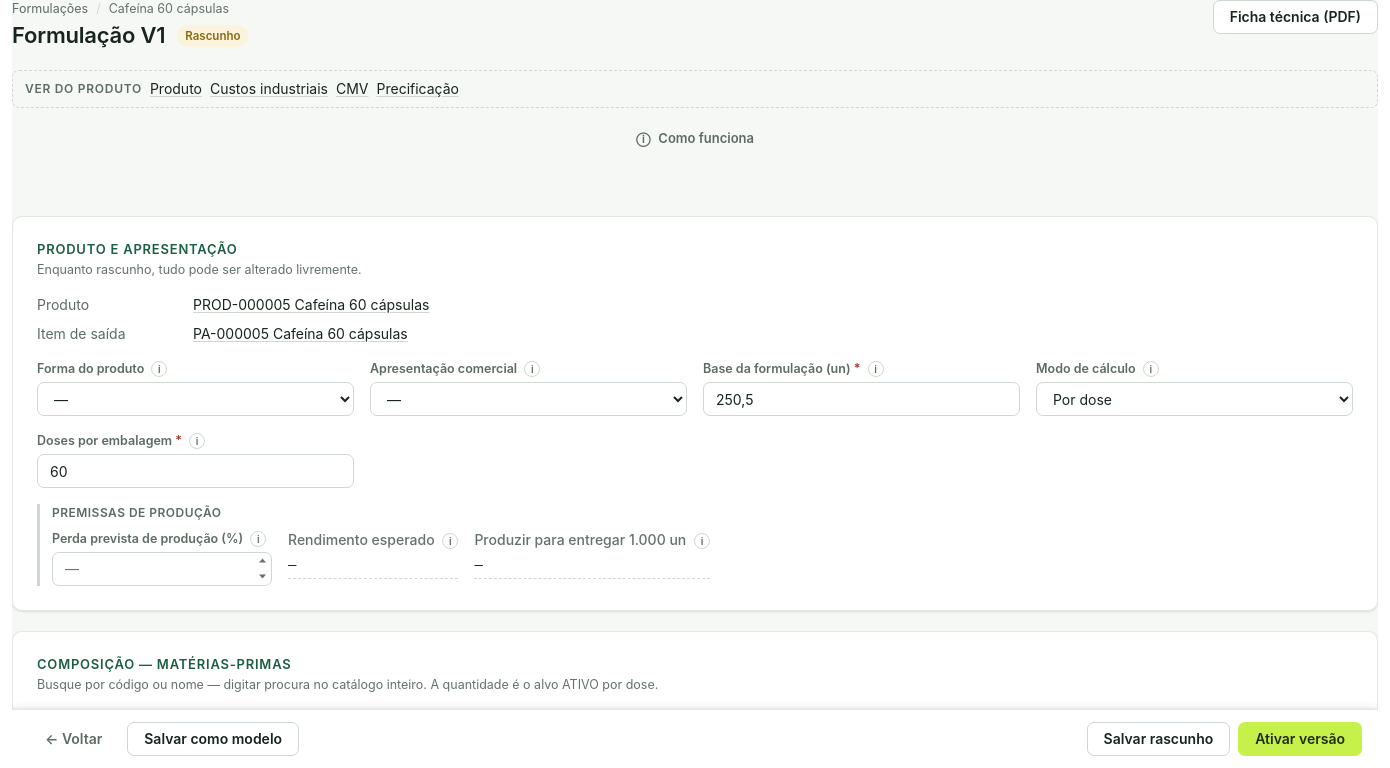
Test: Formulação — alta precisão: base e quantidade com doze casas › letra não entra na base; zero continua zero; vazio não vira zero e não sai
Expected: the link "PROD-000005 Cafeína 60 cápsulas" is shown, [193,296,429,313]
Replace the text in the field labelled "Base da formulação (un) * i" with "a0" at (862, 399), box [703,382,1020,416]
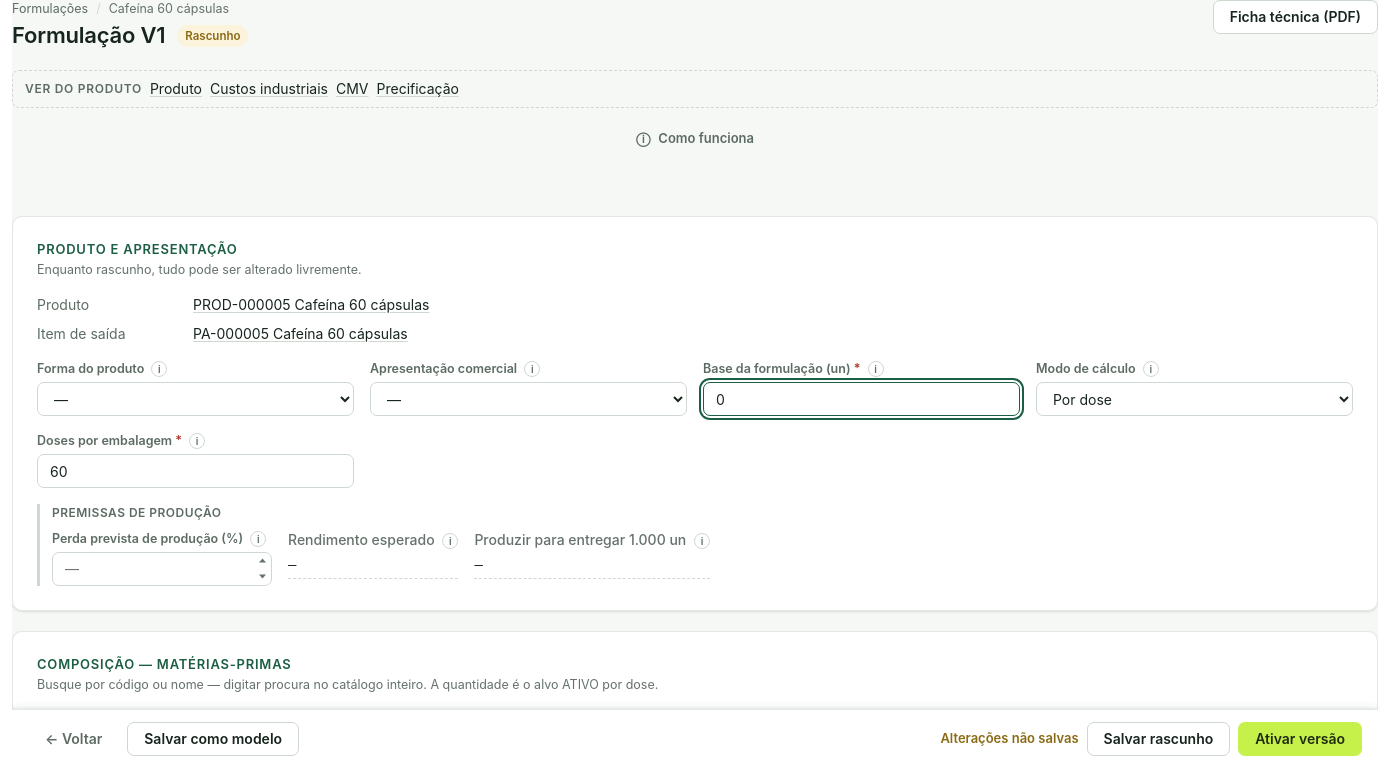
Now the field labelled "Base da formulação (un) * i" holds "0", box [703,382,1020,416]
Click the button "Salvar rascunho" at (1158, 739), box [1087,722,1230,756]
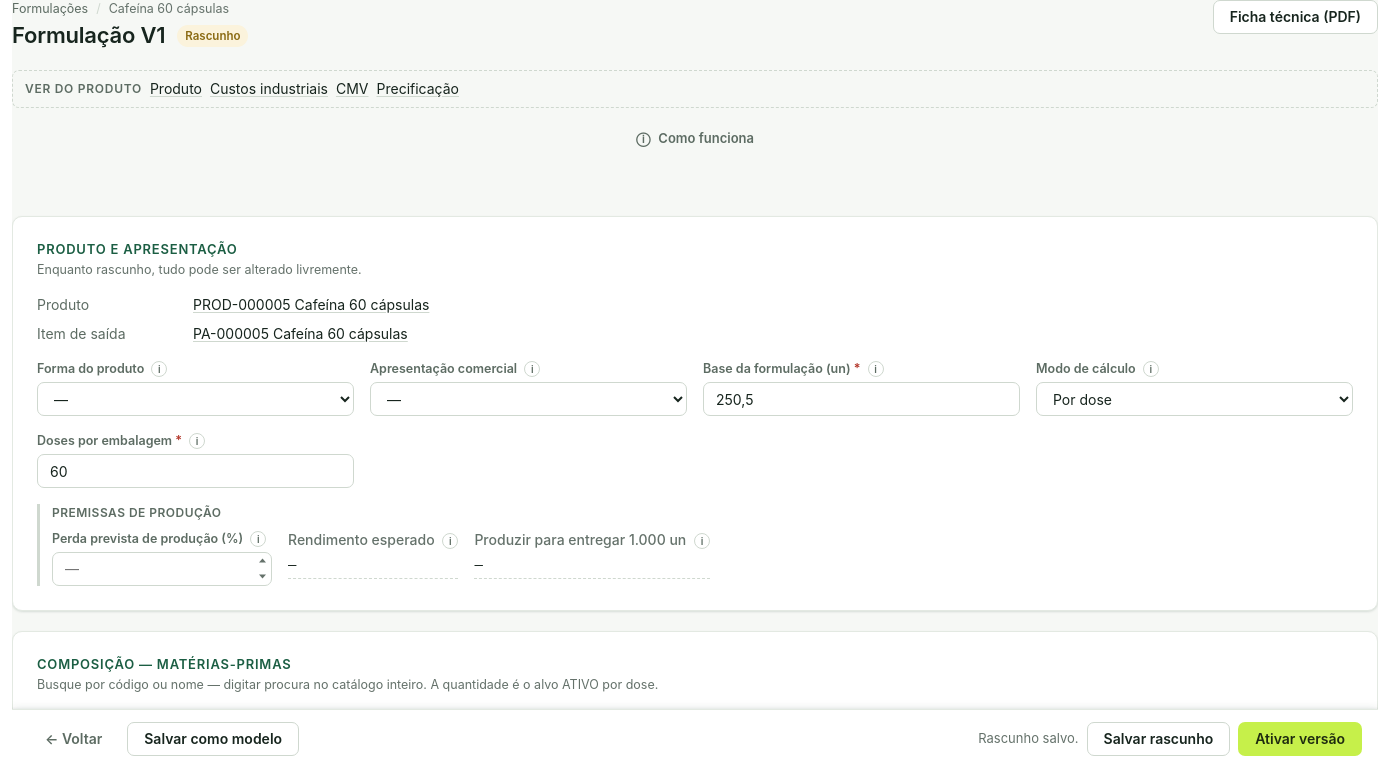
Clear the field labelled "Base da formulação (un) * i" at (862, 399), box [703,382,1020,416]
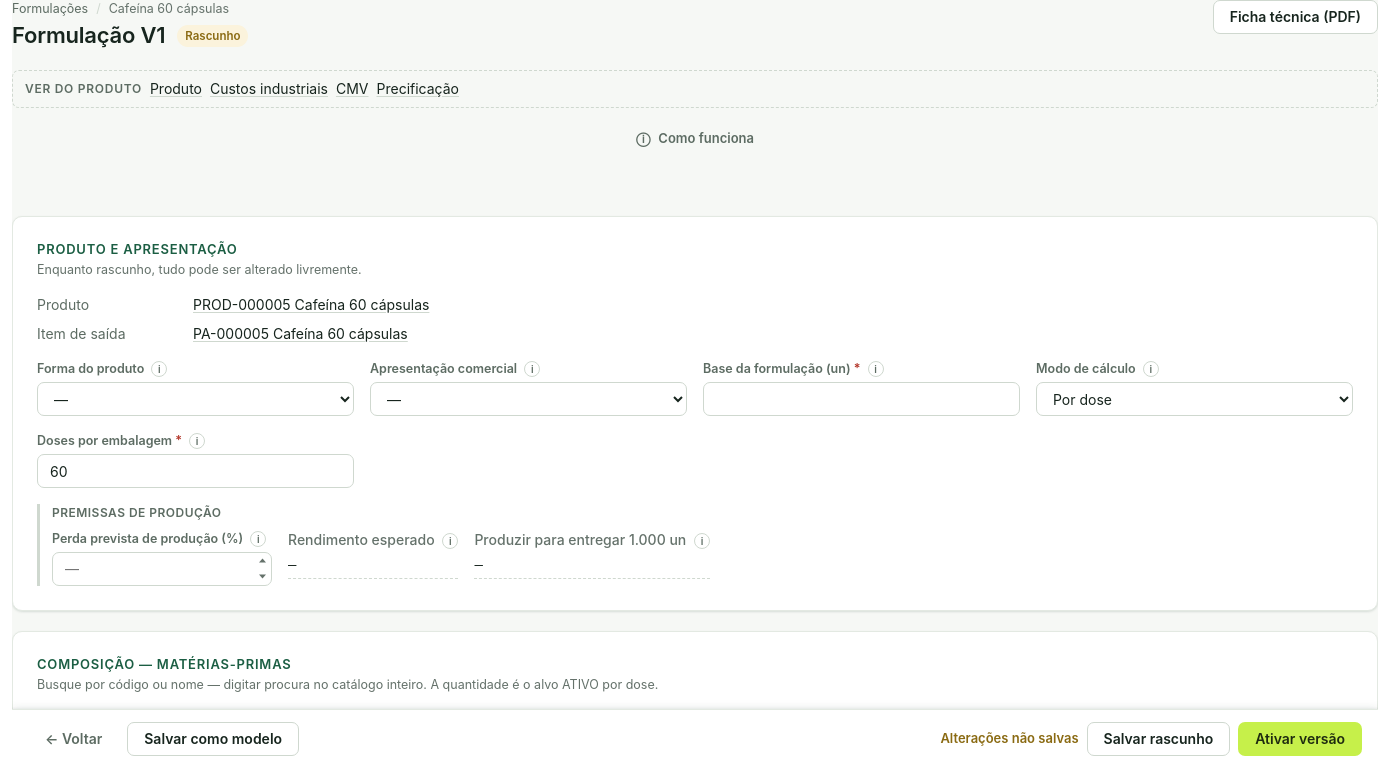
Click the button "Salvar rascunho" at (1158, 739), box [1087,722,1230,756]
(page scrolled)
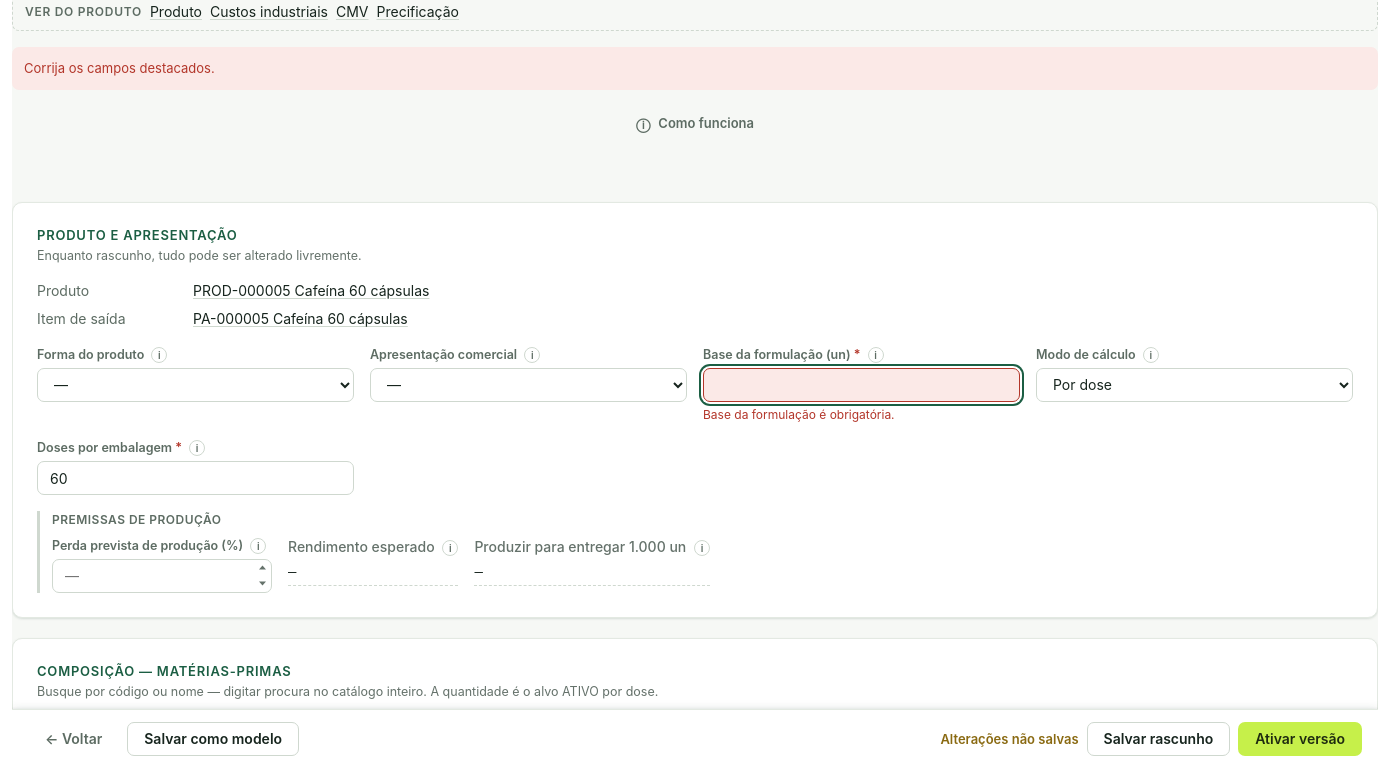
Now the text "Base da formulação é obrigatória." is shown, box [703,407,895,422]
